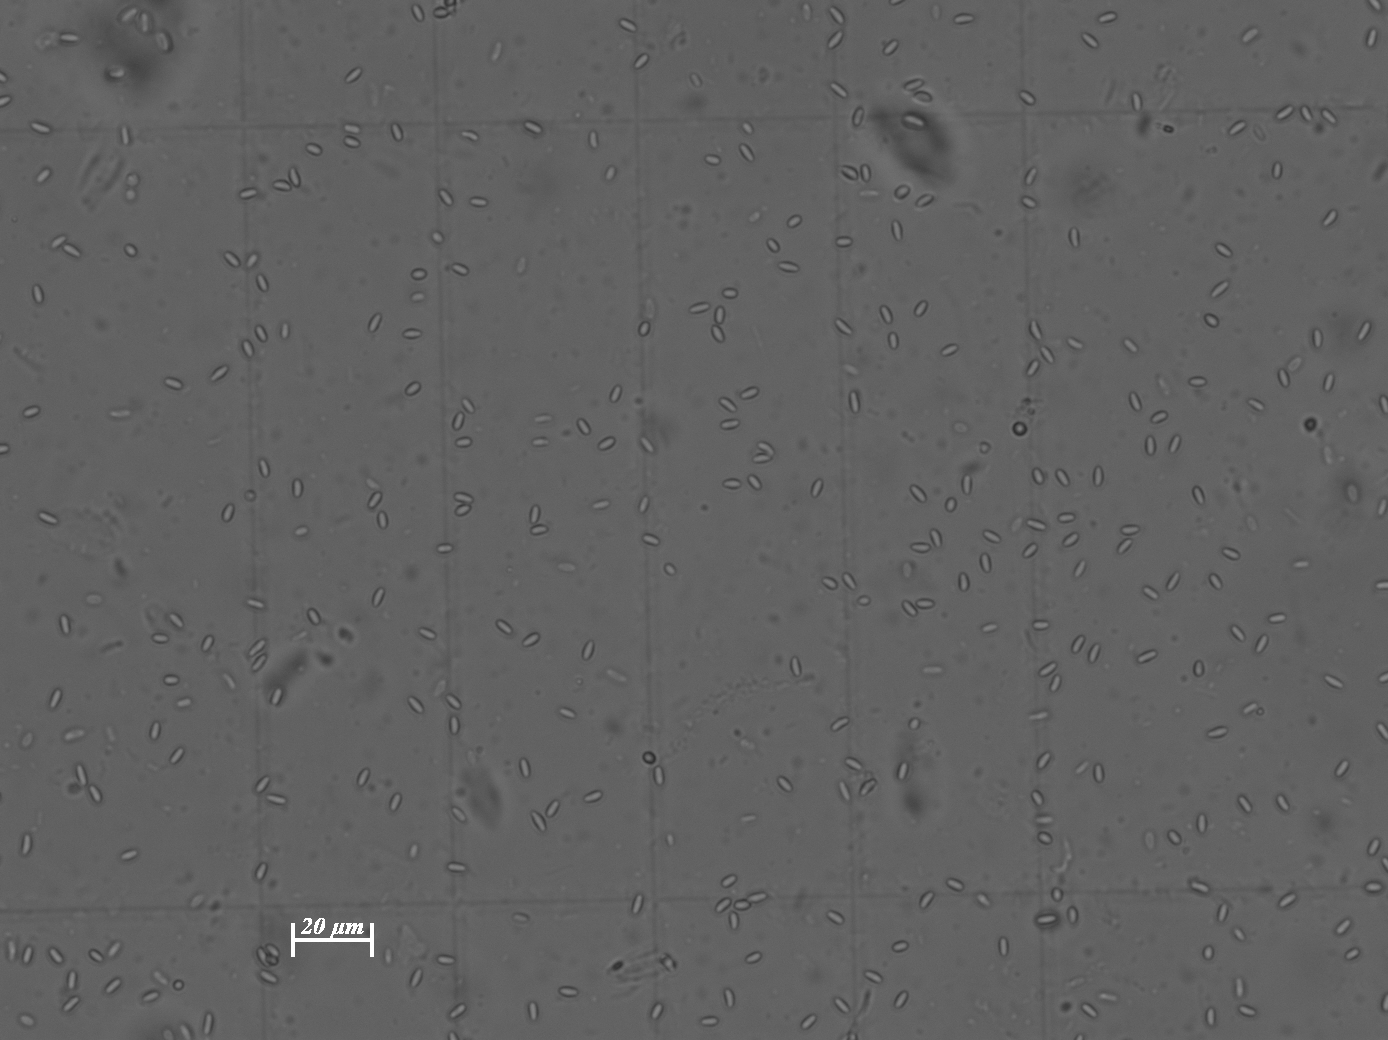spore: (854, 766, 875, 789), (717, 894, 743, 910), (246, 642, 262, 665), (1036, 666, 1056, 685), (711, 315, 727, 335), (342, 126, 360, 143), (850, 780, 866, 800), (1191, 485, 1207, 506), (532, 806, 553, 822), (834, 997, 852, 1015), (911, 486, 928, 504), (828, 8, 845, 25), (1208, 572, 1224, 591), (1279, 365, 1297, 381), (879, 305, 894, 324), (909, 599, 928, 614), (893, 991, 910, 1008), (254, 275, 271, 293), (251, 653, 269, 670), (739, 145, 756, 163), (829, 82, 846, 98), (633, 52, 650, 70), (1277, 105, 1294, 121), (598, 436, 617, 451), (367, 492, 382, 510), (411, 3, 426, 22), (1035, 753, 1051, 771), (1022, 167, 1037, 186), (810, 478, 825, 498), (368, 314, 382, 333), (222, 504, 236, 523), (1357, 321, 1372, 341), (49, 688, 63, 708), (1374, 722, 1388, 742), (1088, 643, 1101, 664), (902, 601, 918, 617), (1037, 662, 1054, 678), (408, 697, 425, 713), (446, 694, 462, 710), (438, 190, 454, 206), (225, 252, 241, 269), (1231, 627, 1247, 643), (248, 638, 264, 654), (776, 776, 793, 792), (1166, 830, 1183, 847), (104, 979, 120, 995), (1236, 797, 1253, 814), (530, 808, 546, 825), (894, 185, 912, 200), (577, 418, 592, 436), (857, 780, 873, 797), (843, 574, 858, 591), (532, 815, 547, 832), (1215, 244, 1233, 259), (1322, 209, 1338, 226), (1055, 470, 1070, 487), (766, 237, 781, 255), (619, 19, 637, 34), (200, 635, 215, 652), (802, 1014, 817, 1031), (917, 893, 933, 910), (835, 320, 853, 335), (1041, 347, 1056, 365), (169, 747, 185, 765), (1117, 537, 1132, 555), (496, 619, 513, 635), (522, 633, 539, 648), (747, 475, 764, 491), (1081, 34, 1099, 49), (883, 39, 901, 55), (828, 910, 845, 925), (524, 120, 542, 135), (829, 719, 846, 734), (838, 782, 853, 800), (1071, 636, 1086, 654), (307, 607, 321, 626), (254, 324, 269, 343), (527, 505, 542, 523), (609, 385, 624, 403), (1166, 574, 1181, 592), (1029, 322, 1043, 341), (1128, 393, 1142, 412), (257, 954, 275, 968), (88, 784, 103, 803), (259, 970, 277, 984), (961, 474, 975, 493), (289, 167, 302, 187), (581, 642, 594, 662), (1144, 436, 1158, 456), (67, 971, 80, 991), (913, 302, 928, 318), (863, 778, 878, 794), (462, 398, 477, 414), (64, 244, 81, 259), (517, 763, 532, 779), (1153, 410, 1170, 425), (715, 897, 732, 912), (450, 414, 465, 430), (828, 34, 843, 50), (1029, 790, 1044, 806), (822, 577, 839, 592), (210, 366, 226, 381), (1080, 1003, 1096, 1018), (48, 948, 63, 965), (1211, 281, 1226, 297), (603, 165, 618, 181), (1332, 763, 1349, 778), (1276, 794, 1291, 811), (451, 1002, 467, 1017), (258, 946, 273, 962), (1336, 919, 1351, 935), (37, 167, 52, 184), (652, 761, 664, 782), (638, 320, 652, 338), (722, 399, 739, 413), (452, 263, 470, 277), (390, 125, 404, 142), (1168, 435, 1183, 452), (984, 530, 1001, 544), (254, 862, 269, 879), (1224, 547, 1242, 562), (545, 801, 559, 818), (947, 878, 964, 893), (408, 970, 423, 988), (1255, 635, 1269, 652), (833, 716, 851, 730), (721, 874, 738, 888), (269, 688, 283, 706), (1137, 651, 1154, 665), (1248, 398, 1266, 412), (32, 286, 46, 304), (890, 220, 904, 237), (958, 574, 971, 592), (929, 531, 942, 549), (1193, 660, 1206, 678), (852, 107, 865, 126), (1067, 228, 1080, 247), (149, 722, 162, 741), (21, 946, 34, 965), (256, 948, 269, 967), (776, 262, 796, 274), (755, 450, 774, 462), (21, 835, 33, 854), (88, 948, 104, 964), (123, 243, 139, 258), (710, 328, 725, 343), (1063, 532, 1078, 547), (452, 807, 467, 823), (1142, 586, 1158, 601), (1322, 108, 1338, 123), (1020, 91, 1035, 106), (1021, 543, 1036, 558), (743, 386, 758, 401), (169, 612, 185, 627), (1227, 121, 1243, 137), (1011, 422, 1027, 437), (86, 781, 102, 796), (1303, 417, 1318, 433), (1047, 676, 1061, 693), (842, 167, 858, 181), (370, 591, 384, 607), (355, 770, 369, 787), (845, 757, 862, 771), (454, 504, 471, 518), (258, 462, 272, 478), (757, 440, 773, 454), (419, 627, 436, 641), (455, 436, 472, 450), (1201, 945, 1215, 961), (257, 776, 271, 792), (1030, 469, 1044, 485), (343, 70, 359, 84), (746, 950, 762, 965), (1366, 840, 1380, 856), (1072, 559, 1087, 576), (1147, 441, 1161, 458), (454, 491, 472, 504), (977, 556, 990, 574), (1322, 375, 1336, 392), (643, 533, 661, 546), (638, 497, 651, 515), (1092, 766, 1105, 783), (292, 480, 305, 497), (631, 896, 644, 913), (864, 971, 881, 984), (723, 418, 740, 432), (389, 793, 402, 811), (898, 764, 911, 781), (586, 131, 600, 149), (360, 941, 373, 958), (714, 306, 726, 324), (723, 990, 735, 1008), (1365, 28, 1377, 47), (459, 404, 474, 418), (942, 497, 957, 512), (356, 925, 371, 939), (299, 922, 315, 936), (404, 383, 419, 398), (889, 226, 903, 241), (740, 121, 756, 135), (1298, 106, 1313, 121), (1203, 315, 1219, 329), (917, 193, 933, 208), (689, 72, 703, 87), (786, 214, 802, 228), (1211, 725, 1226, 740), (1124, 339, 1139, 353), (246, 253, 260, 269), (1279, 895, 1294, 909), (1232, 119, 1247, 133), (143, 990, 158, 1004), (639, 438, 653, 453), (530, 524, 546, 537), (1027, 359, 1040, 376), (343, 135, 359, 149), (307, 143, 323, 156), (240, 341, 253, 357), (1066, 906, 1079, 922), (167, 377, 183, 390), (1270, 164, 1283, 180), (1051, 887, 1064, 903), (38, 511, 55, 524), (585, 791, 602, 804), (906, 117, 923, 130), (651, 1003, 664, 1019), (1068, 336, 1084, 350), (296, 927, 312, 941), (448, 713, 461, 730), (377, 512, 389, 530), (1123, 524, 1140, 536), (434, 9, 451, 21), (1033, 619, 1051, 631), (790, 660, 802, 677), (1218, 905, 1230, 922), (953, 13, 971, 25), (1205, 1008, 1217, 1026), (999, 936, 1011, 954), (888, 332, 899, 351), (286, 932, 297, 950), (756, 454, 774, 465), (732, 898, 746, 912), (448, 721, 462, 735), (641, 752, 655, 766), (942, 343, 957, 357), (1073, 760, 1088, 775), (277, 180, 293, 193), (892, 941, 907, 954), (559, 707, 574, 720), (560, 985, 576, 998), (412, 268, 427, 281), (1343, 948, 1359, 961), (1099, 12, 1114, 25), (916, 91, 932, 104), (1324, 675, 1339, 688), (1141, 649, 1156, 662), (58, 619, 71, 635), (411, 289, 426, 303), (1178, 835, 1191, 850), (264, 943, 280, 956), (49, 236, 64, 249), (729, 911, 742, 927), (248, 649, 264, 661), (914, 543, 930, 555), (471, 197, 487, 209), (1028, 520, 1044, 532), (906, 79, 923, 91), (1037, 914, 1054, 926), (690, 303, 707, 315), (1187, 376, 1203, 388), (1241, 1005, 1257, 1017), (264, 956, 281, 968), (1198, 813, 1210, 829), (447, 862, 464, 873), (1313, 332, 1324, 350), (903, 114, 921, 125), (846, 401, 861, 414), (737, 900, 751, 913), (1021, 197, 1035, 210), (23, 405, 37, 418), (1037, 831, 1052, 844), (526, 1007, 539, 1021), (430, 231, 444, 244), (1234, 927, 1247, 942), (1253, 127, 1266, 141), (859, 167, 871, 182), (1278, 373, 1290, 388), (960, 481, 972, 496), (1193, 882, 1208, 894), (1270, 612, 1285, 624), (64, 996, 80, 1008), (1131, 95, 1142, 111), (32, 122, 48, 133), (271, 794, 287, 805), (332, 922, 345, 935), (664, 563, 677, 576), (907, 717, 921, 730), (610, 959, 624, 972), (707, 155, 721, 167), (653, 772, 665, 787), (1197, 819, 1209, 834), (240, 187, 254, 199), (295, 524, 309, 536), (315, 917, 325, 932), (1093, 472, 1104, 487), (916, 599, 932, 610), (404, 329, 419, 340), (998, 942, 1009, 957), (723, 288, 738, 299), (594, 499, 609, 510), (121, 849, 137, 860), (265, 792, 281, 803), (1057, 513, 1073, 523), (300, 918, 312, 931), (245, 489, 257, 503), (153, 634, 167, 645), (438, 543, 452, 554), (164, 675, 178, 686), (464, 131, 478, 142), (344, 123, 358, 134), (984, 623, 998, 634), (751, 891, 766, 902), (724, 478, 739, 488), (438, 956, 453, 966), (702, 1016, 717, 1026), (347, 923, 358, 936), (354, 923, 365, 936), (171, 980, 185, 991), (857, 595, 870, 606), (977, 442, 990, 453), (1161, 125, 1175, 134), (289, 944, 299, 958), (838, 237, 852, 247), (1378, 400, 1388, 414), (754, 452, 769, 461), (1254, 706, 1266, 717), (315, 922, 324, 935), (248, 600, 262, 608), (368, 921, 377, 935), (337, 922, 347, 934), (1376, 581, 1388, 591), (1378, 671, 1388, 683), (289, 924, 297, 939), (358, 935, 371, 944), (533, 437, 547, 445), (330, 926, 340, 937), (353, 936, 369, 943), (343, 937, 358, 944), (443, 0, 453, 10), (289, 950, 298, 960), (450, 1031, 460, 1040), (334, 923, 343, 933), (892, 0, 904, 7), (0, 445, 10, 452), (456, 508, 465, 516), (576, 678, 584, 686), (352, 924, 359, 933), (334, 937, 346, 943), (1073, 1033, 1083, 1040), (293, 938, 304, 944), (639, 327, 646, 333), (708, 1020, 714, 1027), (1019, 430, 1025, 437), (1165, 126, 1172, 132), (853, 1033, 859, 1040), (290, 921, 296, 927)
